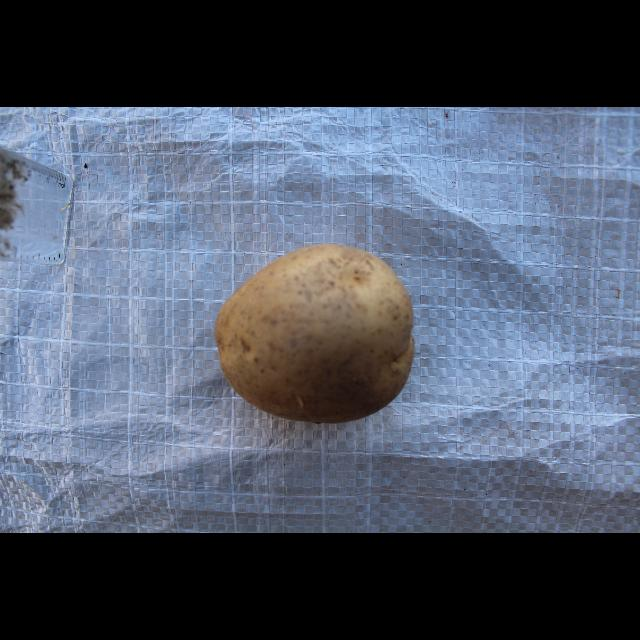Diseased-fungal potato: (207, 242, 417, 426)
